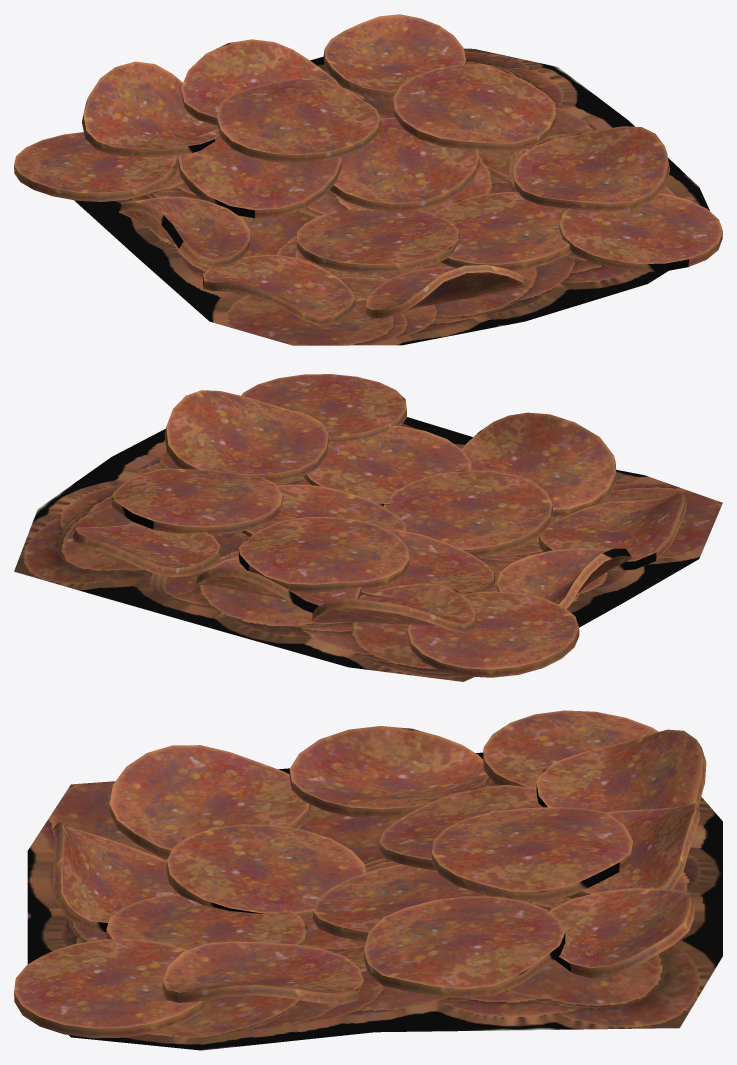
File: SM_Ingredients_01d.fbx
3 views of the same model, one above another, from view 1: azimuth 30°, elevation 25°; view 2: azimuth 150°, elevation 25°; view 3: azimuth 270°, elevation 25° (orthographic). The views are drawn at different scales.
Parts seen in each view (by area): view 1: SM_Ingredients_01d_LOD0; view 2: SM_Ingredients_01d_LOD0; view 3: SM_Ingredients_01d_LOD0.
Part boxes in pixels (box(x1,y1,x2,y2)): SM_Ingredients_01d_LOD0: box(14, 14, 722, 345); SM_Ingredients_01d_LOD0: box(14, 374, 722, 681); SM_Ingredients_01d_LOD0: box(14, 710, 722, 1050).
Bounding box in the file's own units: 21.41 × 20.61 × 3.5.
